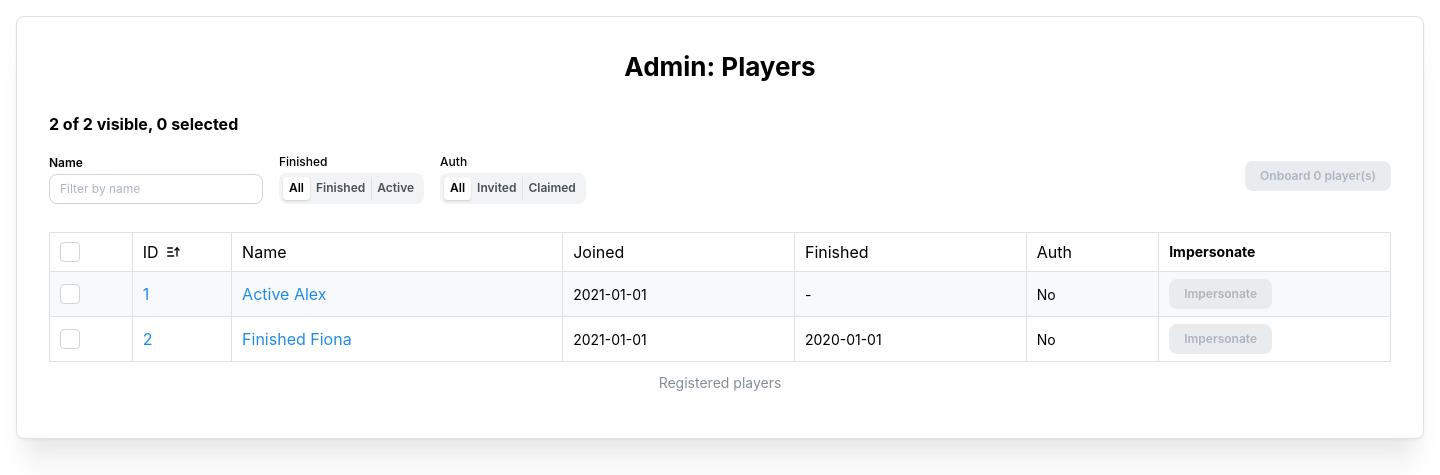
it: AdminPlayerList › tri-state filters › resetting a filter to All restores previously hidden players
Click the radio button labelled "Finished" at {"x": 341, "y": 188}, box [316,180,365,195]
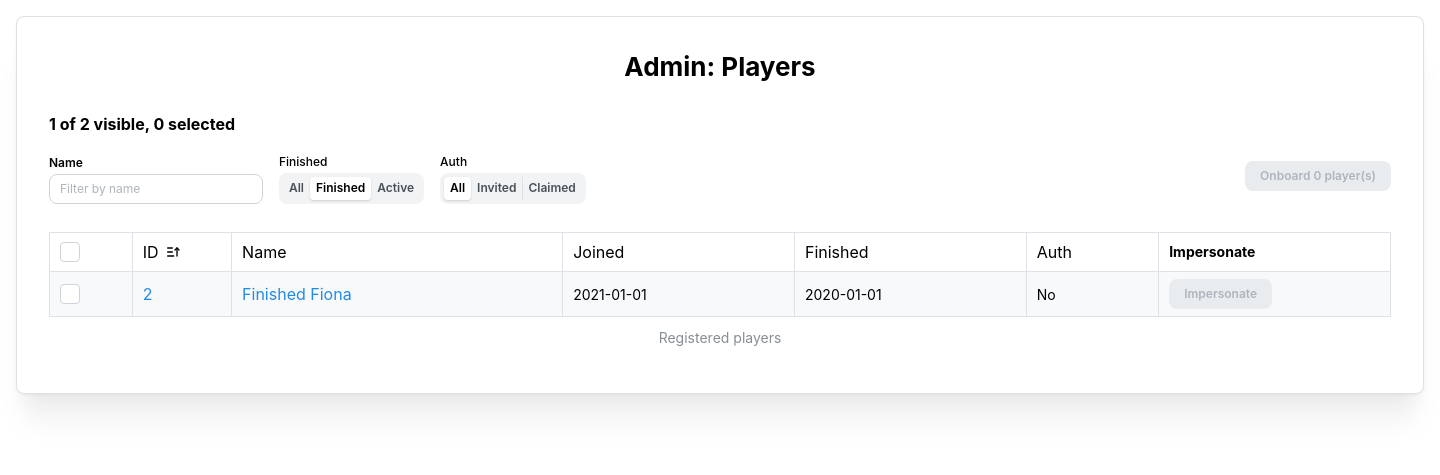
expect the link "Active Alex" is gone: met
Click the radio button labelled "All" in the row of "Active" at {"x": 296, "y": 188}, box [289,180,304,195]
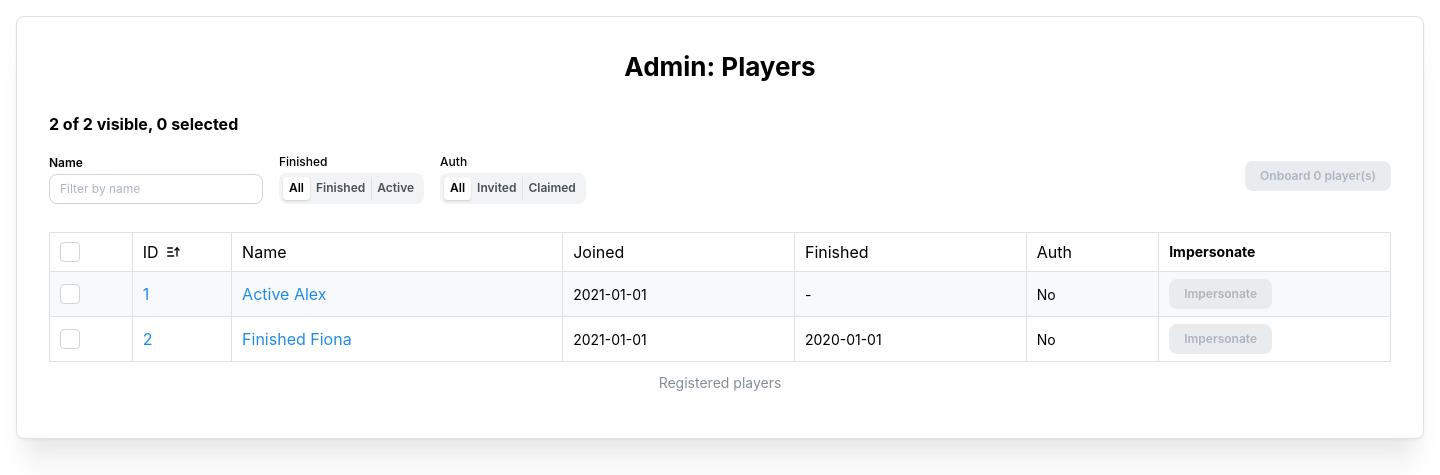
expect the link "Finished Fiona" is shown: met, box [242,329,352,349]
expect the link "Active Alex" is shown: met, box [242,284,326,304]
